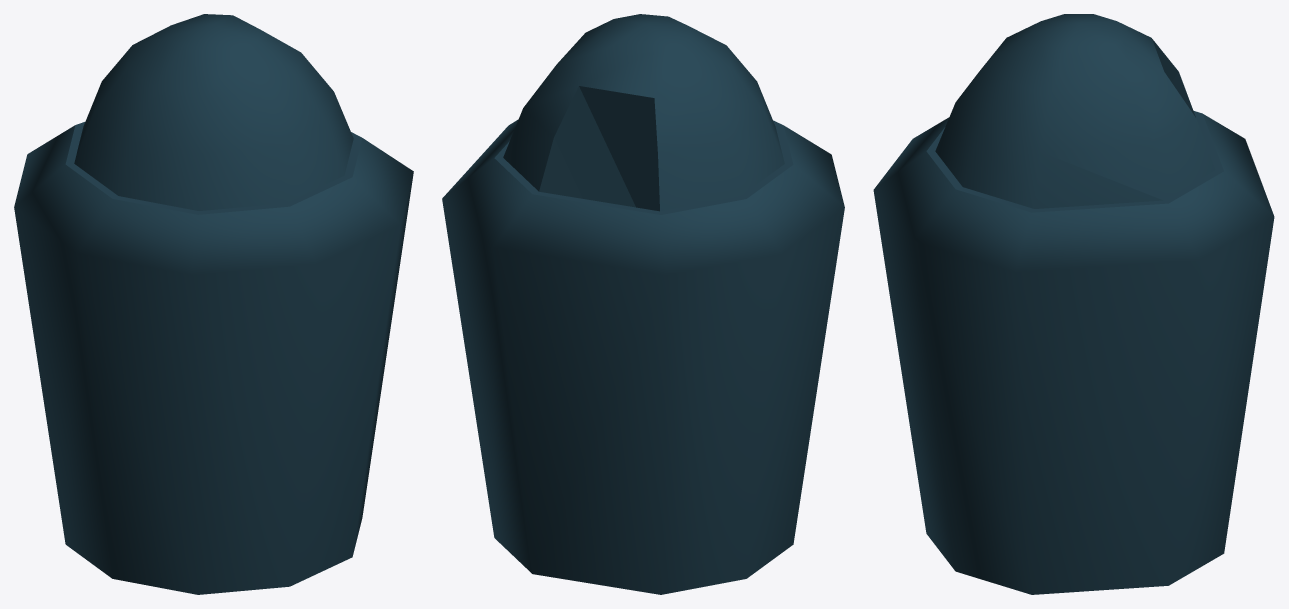
The model's file is TrashCan.fbx.
The picture shows the model from 3 angles, left to right: view 1: azimuth 30°, elevation 25°; view 2: azimuth 150°, elevation 25°; view 3: azimuth 270°, elevation 25°; orthographic projection.
Parts seen in each view (by area): view 1: TrashCan; view 2: TrashCan; view 3: TrashCan.
Part boxes in pixels (x1,y1,x2,y2): TrashCan: (14,14,413,594); TrashCan: (442,14,844,594); TrashCan: (873,14,1274,594).
Size of the model in its own units: 0.7124 by 1.03 by 0.7308.
